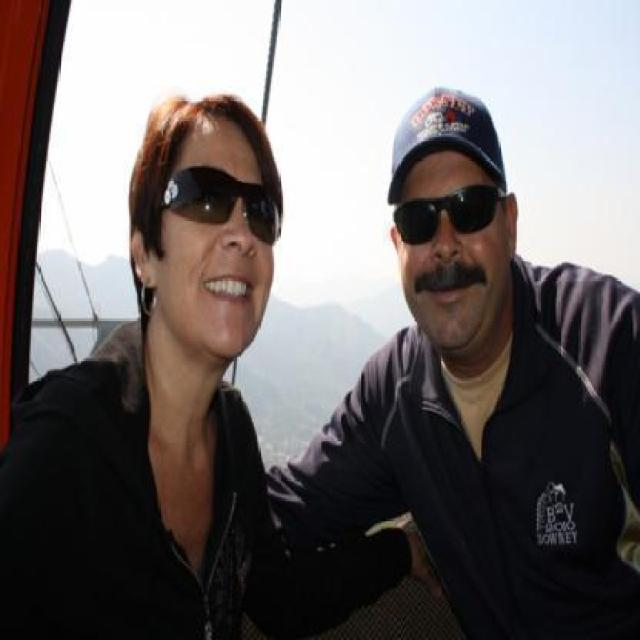face_nomask: (168, 162, 282, 328), (395, 186, 502, 306)
glasses: (158, 160, 287, 248), (387, 182, 498, 246)
head_nohelmet: (387, 100, 510, 185), (135, 92, 274, 163)
person: (292, 89, 640, 628), (0, 94, 285, 640)
